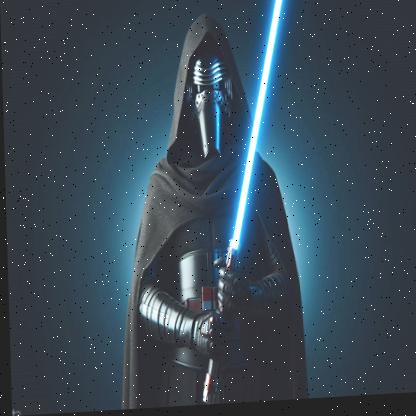lightsaber: (185, 0, 321, 404)
person: (99, 1, 337, 410)
